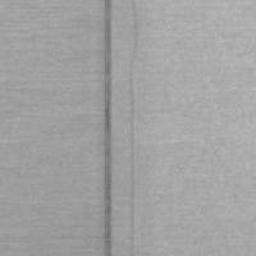Welding line: (102, 0, 113, 255)
